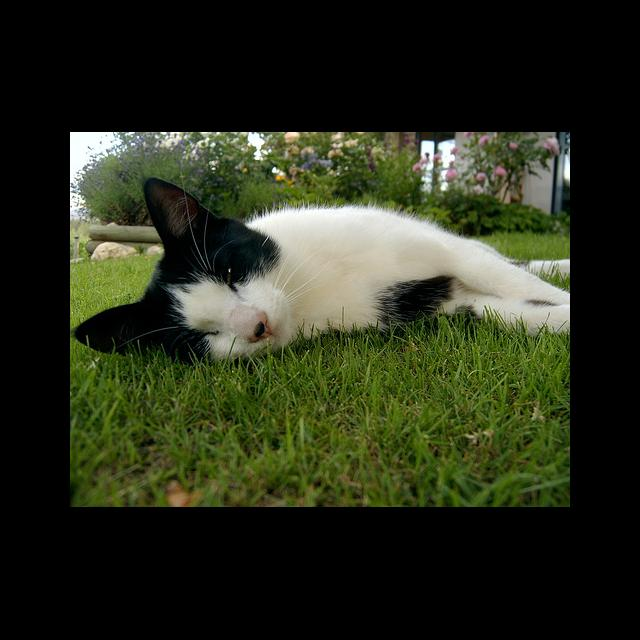animals: (72, 178, 271, 358)
